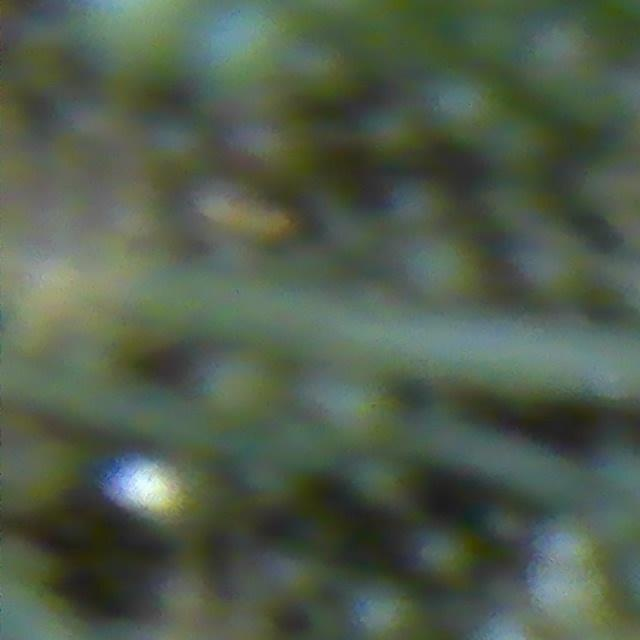SeaGrape: (509, 3, 614, 114), (188, 5, 293, 109), (421, 65, 505, 146), (310, 373, 393, 452), (404, 230, 484, 307), (277, 28, 350, 104), (340, 578, 426, 640), (532, 553, 605, 626), (409, 524, 475, 585), (539, 521, 607, 577)
